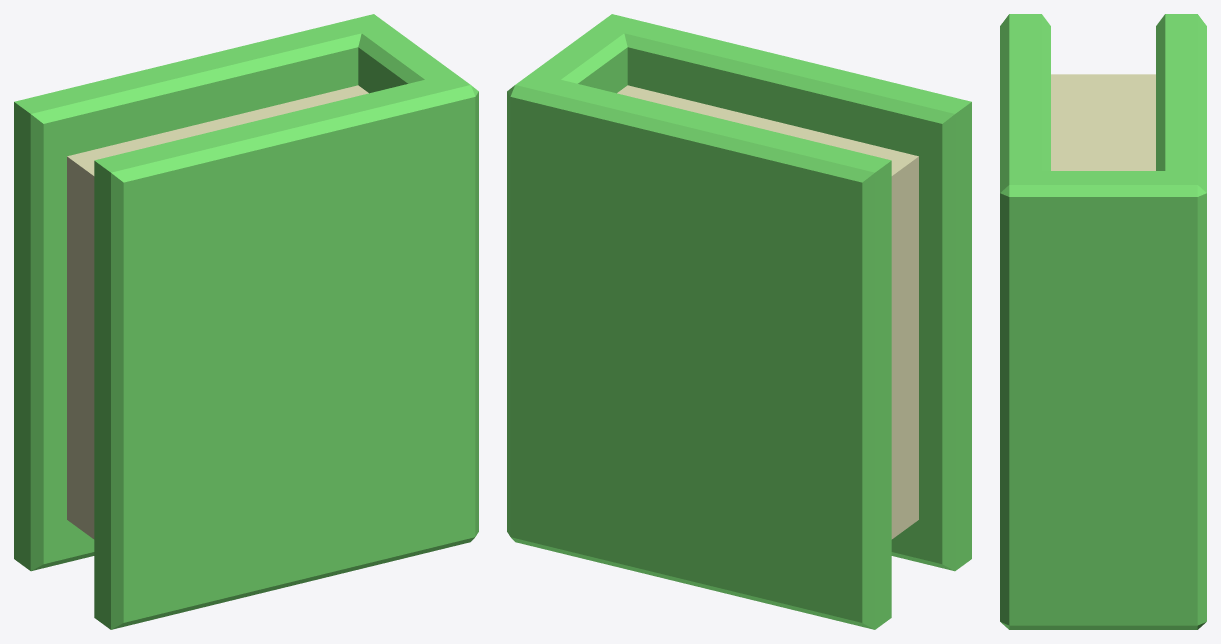
Rendered from BookThiccShortBlockout_RB.fbx.
3 views of the same model, side by side, from view 1: azimuth 30°, elevation 25°; view 2: azimuth 150°, elevation 25°; view 3: azimuth 270°, elevation 25° (orthographic). The views are drawn at different scales.
Parts seen in each view (by area): view 1: BookThiccShortBlockout_RB; view 2: BookThiccShortBlockout_RB; view 3: BookThiccShortBlockout_RB.
Boxes of the visible parts, left/top/right/bottom form: BookThiccShortBlockout_RB: left=14, top=14, right=478, bottom=629; BookThiccShortBlockout_RB: left=507, top=14, right=971, bottom=629; BookThiccShortBlockout_RB: left=1000, top=14, right=1206, bottom=629.
Size of the model in its own units: 0.8 by 0.95 by 0.4.
